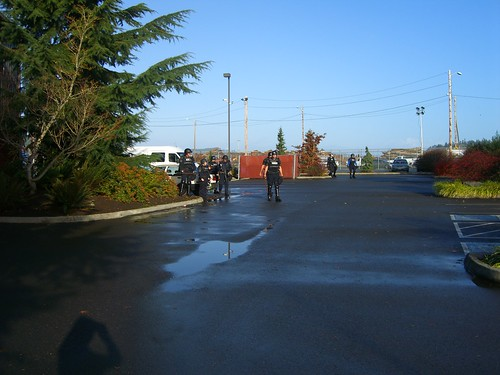policeman: (263, 145, 284, 203), (215, 150, 235, 200), (194, 153, 214, 203), (176, 143, 196, 193), (324, 150, 342, 178), (341, 151, 359, 179)
sky: (152, 1, 500, 144)
street: (1, 192, 500, 375)
tree: (1, 1, 169, 212)
